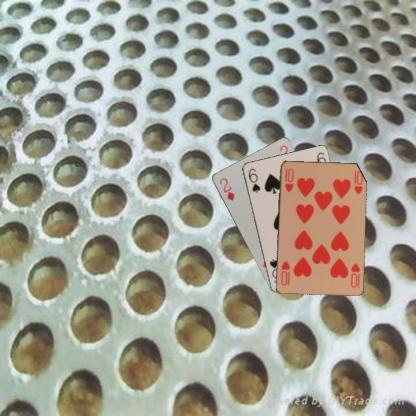10h: (282, 165, 295, 193), (348, 260, 360, 289)
2d: (216, 175, 235, 202)
6s: (246, 166, 261, 193)
